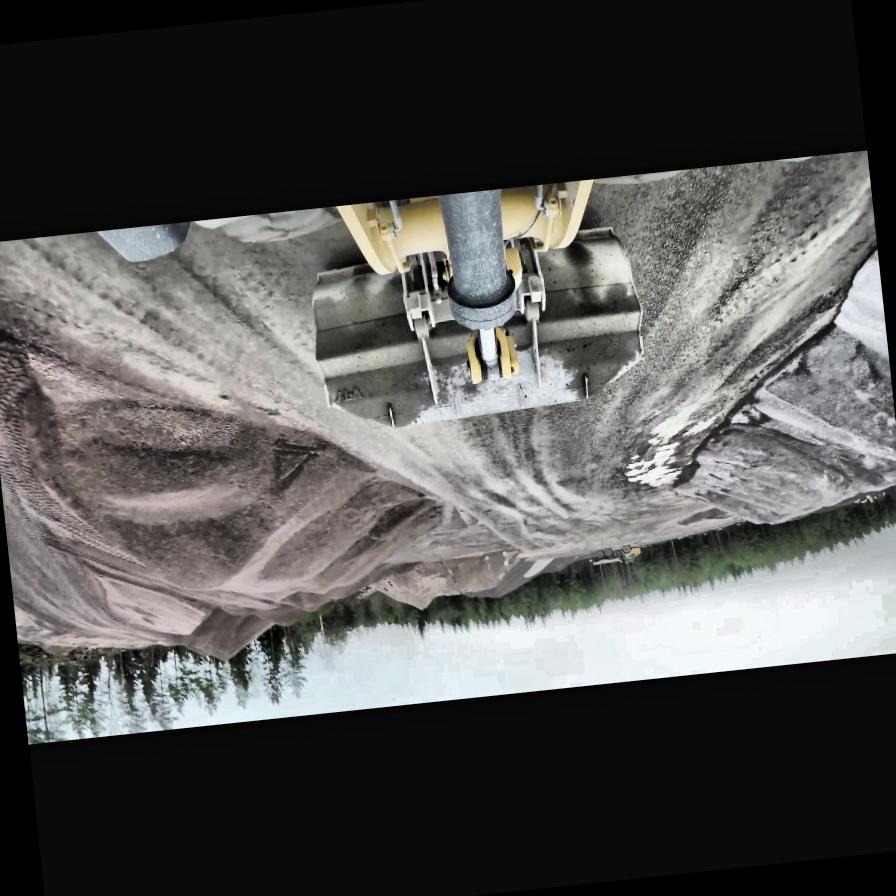anchor: (461, 326, 522, 386)
pile of gravel: (0, 345, 449, 624), (665, 368, 896, 536), (825, 195, 891, 386), (370, 549, 532, 616), (169, 601, 288, 669), (460, 557, 558, 604)
